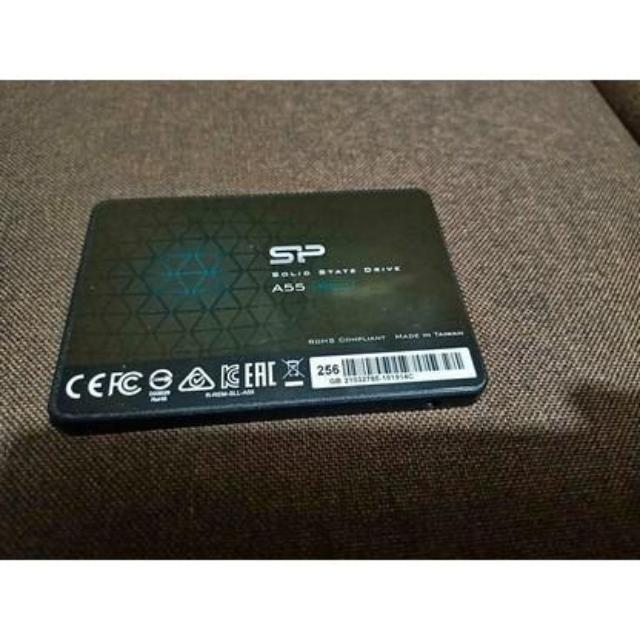DISK: (46, 186, 488, 440)
